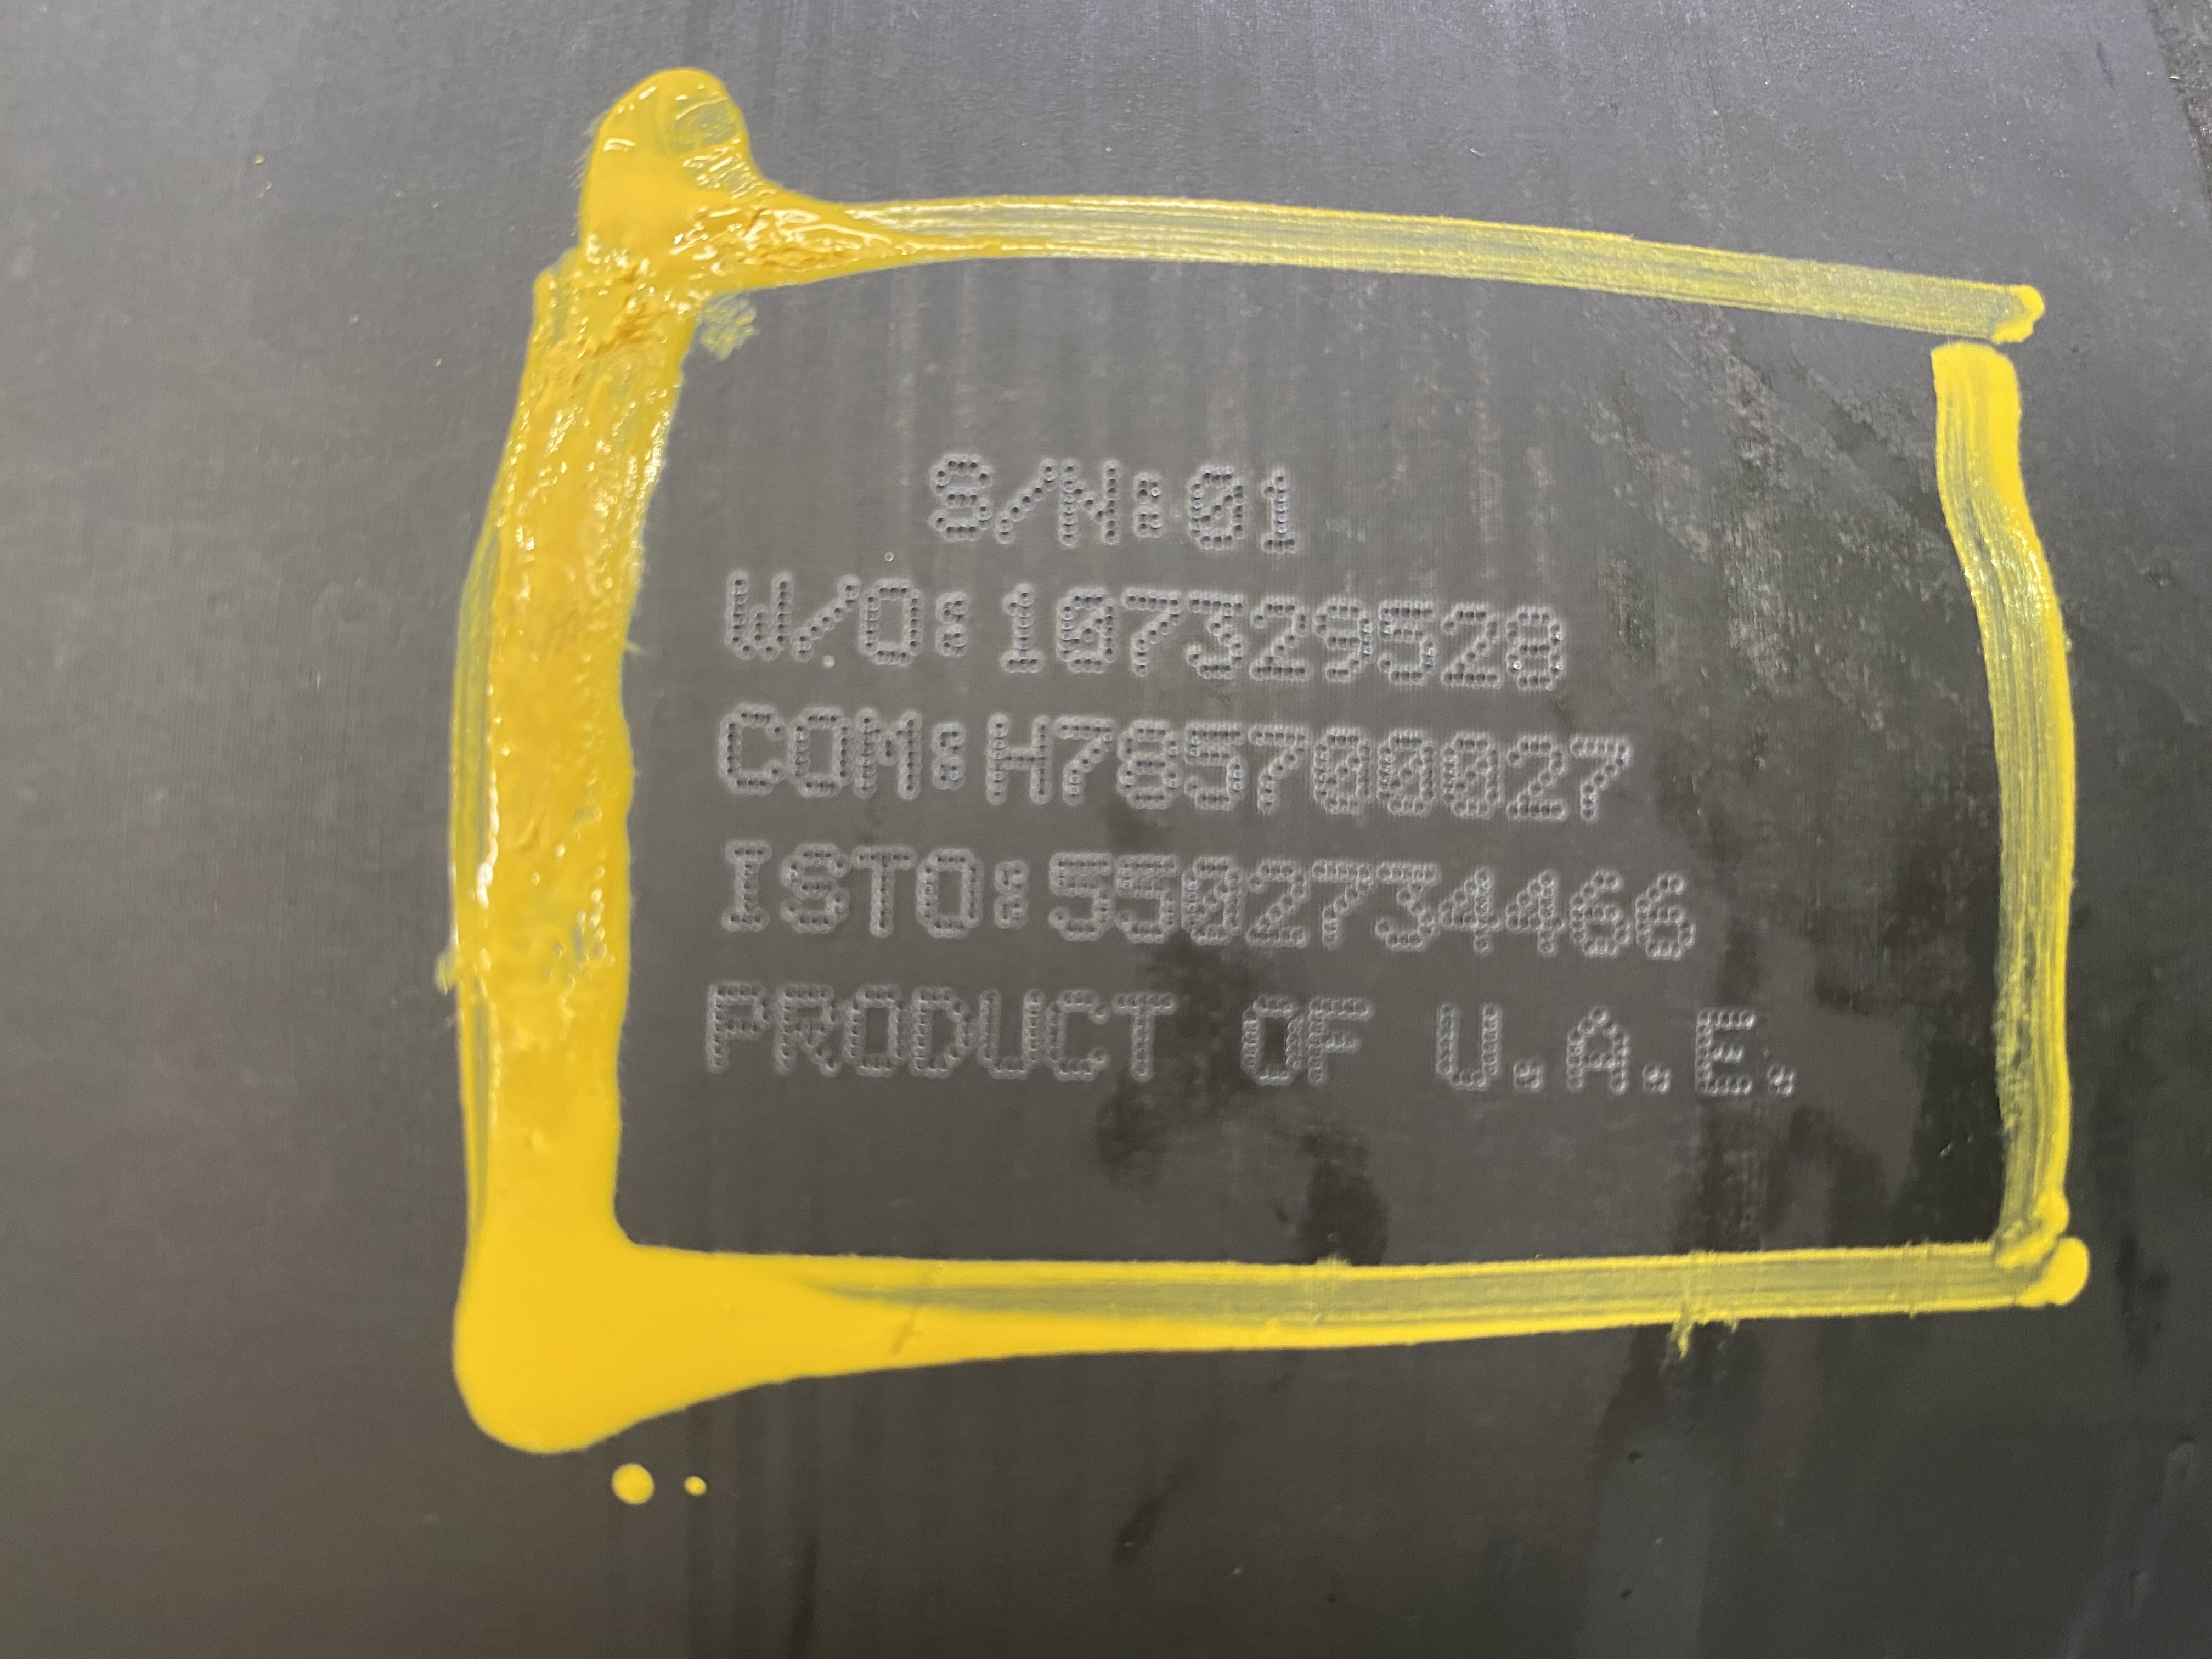character: (1235, 847, 1313, 953), (1367, 854, 1447, 957), (1554, 1000, 1639, 1096), (1430, 997, 1512, 1096), (1630, 857, 1705, 964), (1233, 985, 1308, 1091), (913, 842, 989, 945), (1054, 451, 1129, 556), (772, 835, 852, 932), (1686, 1002, 1764, 1101), (773, 974, 845, 1082), (1047, 577, 1122, 680), (1042, 847, 1113, 953), (972, 979, 1043, 1086), (850, 697, 921, 802), (1113, 843, 1181, 953), (1106, 985, 1181, 1084), (1301, 986, 1371, 1093), (784, 568, 862, 662), (712, 699, 789, 795), (838, 978, 909, 1080), (857, 575, 932, 673), (1500, 725, 1569, 828), (1245, 460, 1317, 559), (1042, 983, 1111, 1084), (1111, 716, 1184, 812), (1183, 579, 1251, 681), (1501, 854, 1569, 957), (1568, 854, 1632, 962), (852, 835, 914, 945), (986, 708, 1054, 809), (1439, 852, 1503, 958), (702, 974, 772, 1072), (1435, 596, 1503, 695), (925, 443, 991, 544), (1116, 579, 1183, 680), (909, 979, 974, 1082), (1181, 843, 1240, 955), (1245, 582, 1312, 681), (1503, 598, 1569, 697), (719, 565, 789, 659), (1371, 725, 1440, 819), (1247, 720, 1315, 814), (1569, 734, 1637, 828), (1310, 594, 1378, 687), (1308, 718, 1371, 816), (1184, 716, 1249, 810), (1439, 725, 1503, 819), (991, 451, 1054, 547), (1054, 708, 1111, 812), (789, 697, 850, 795), (714, 835, 775, 932), (1372, 592, 1435, 687), (1310, 847, 1366, 951), (1186, 460, 1245, 556), (991, 577, 1047, 676)
